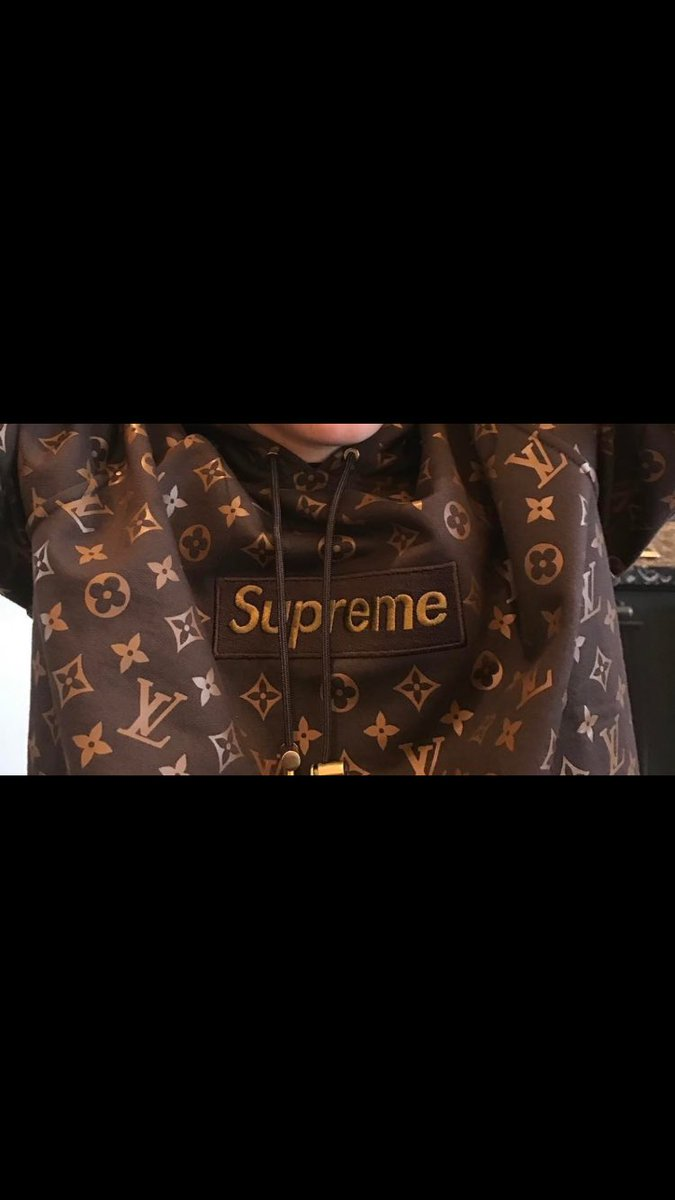LOUIS-VUITTON: (115, 673, 189, 753)
